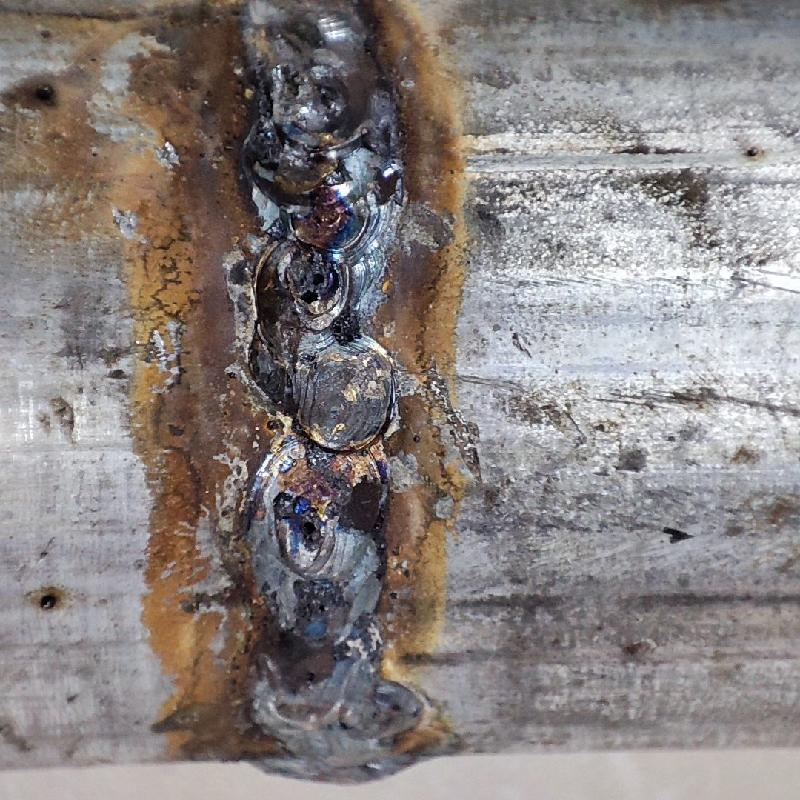Surface_pores: (278, 255, 347, 315), (280, 504, 348, 563)
crater: (252, 51, 403, 744)
